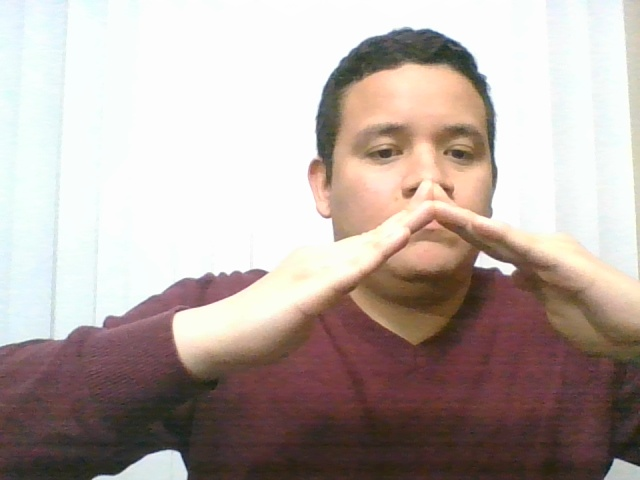House: (125, 163, 636, 421)
